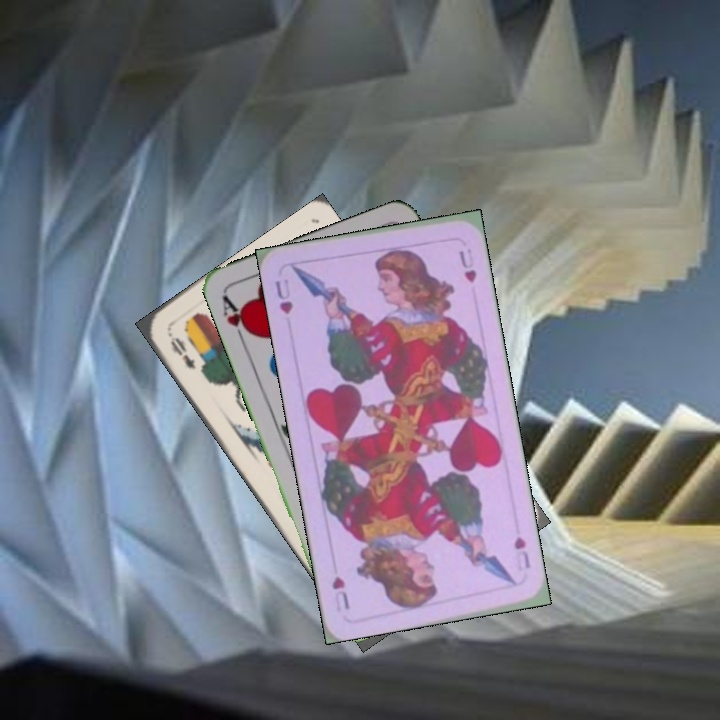EO: (164, 329, 198, 372)
HA: (218, 291, 256, 348)
HU: (271, 275, 296, 317), (509, 532, 533, 574)
